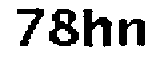7: (11, 6, 45, 55)
8: (47, 7, 79, 51)
h: (83, 8, 114, 52)
n: (118, 17, 152, 51)
